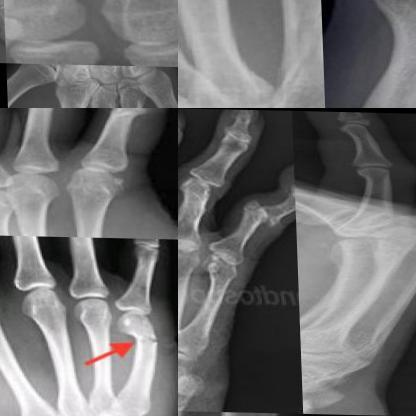fracture: (334, 214, 415, 244), (236, 191, 279, 235), (349, 81, 415, 107), (130, 325, 163, 350), (288, 181, 295, 205)
